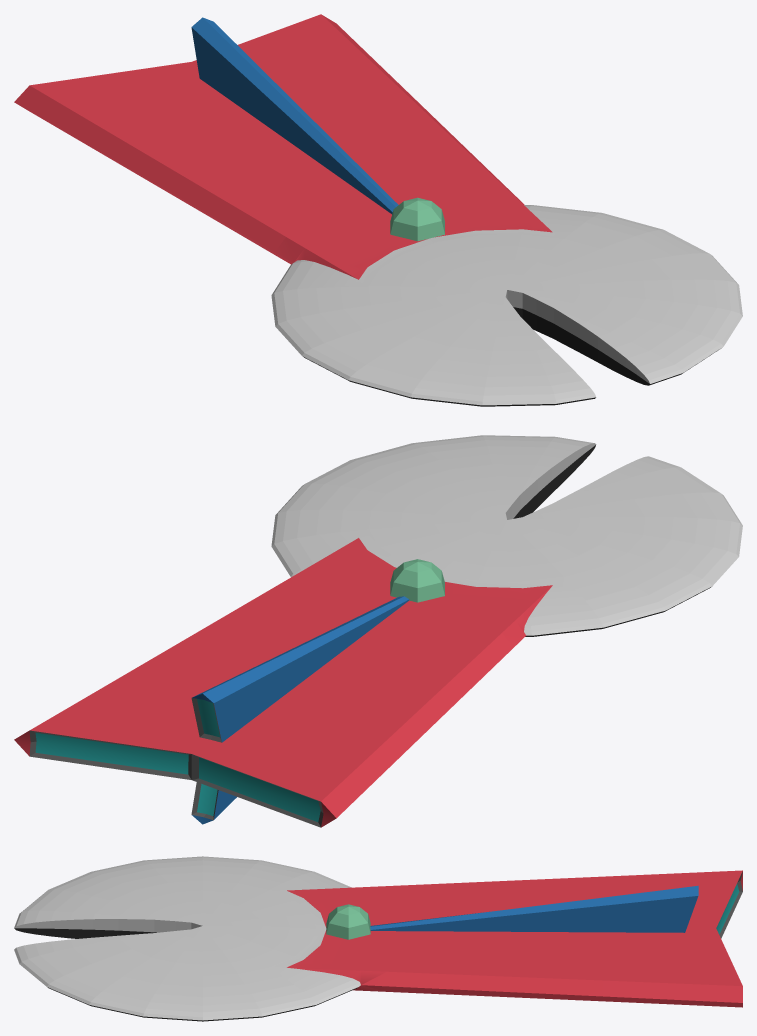
The model's file is Bishop.fbx.
The picture shows the model from 3 angles, top to bottom: view 1: azimuth 30°, elevation 25°; view 2: azimuth 150°, elevation 25°; view 3: azimuth 270°, elevation 25°; orthographic projection. The views are drawn at different scales.
Parts seen in each view (by area): view 1: Bishop; view 2: Bishop; view 3: Bishop.
Part boxes in pixels (bbox=[...]): Bishop: bbox=[14, 14, 742, 406]; Bishop: bbox=[14, 435, 742, 827]; Bishop: bbox=[14, 856, 742, 1021].
Bounding box in the file's own units: 14.79 × 4.51 × 27.94.
